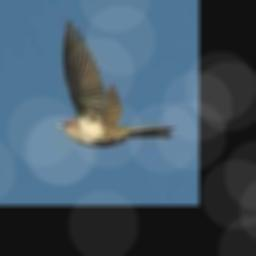Cuckoo: (57, 19, 177, 146)
